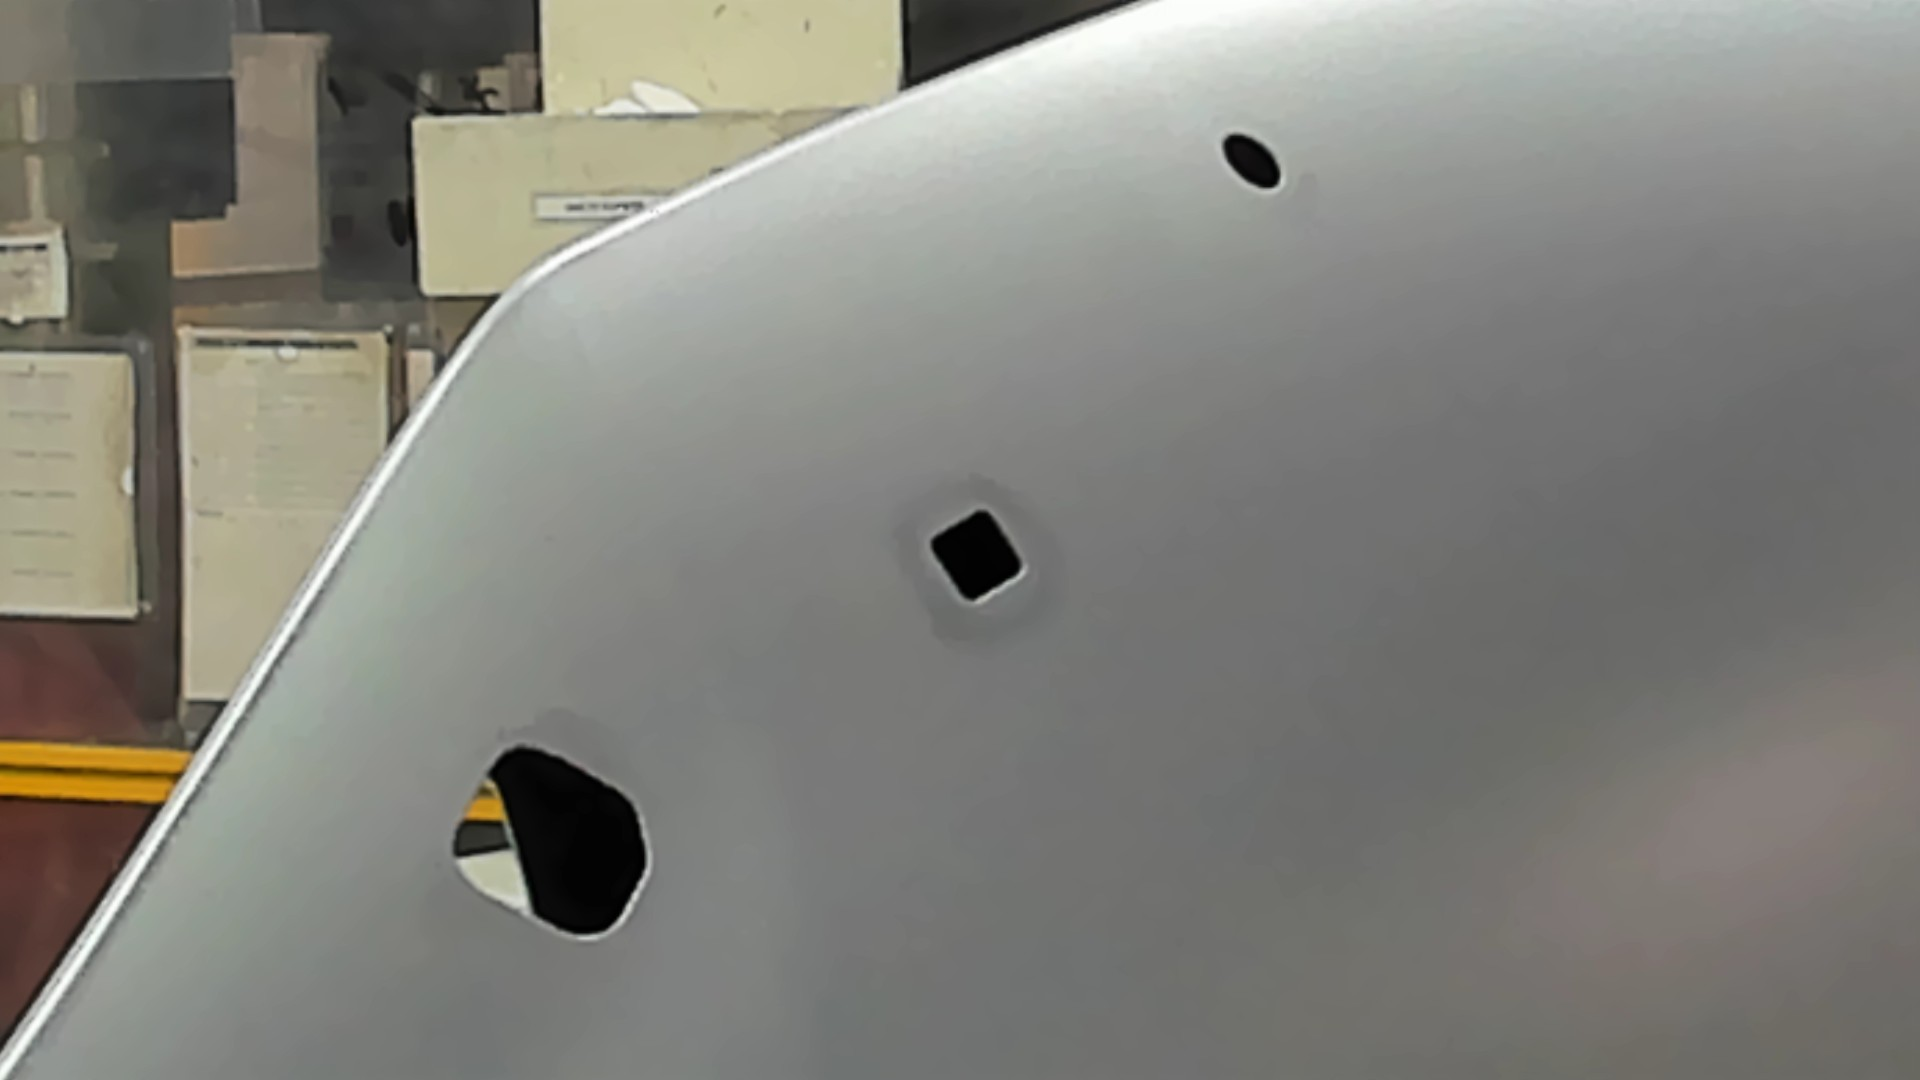chico: (1218, 127, 1287, 195)
grande: (446, 735, 654, 945)
mediano: (920, 500, 1034, 611)
